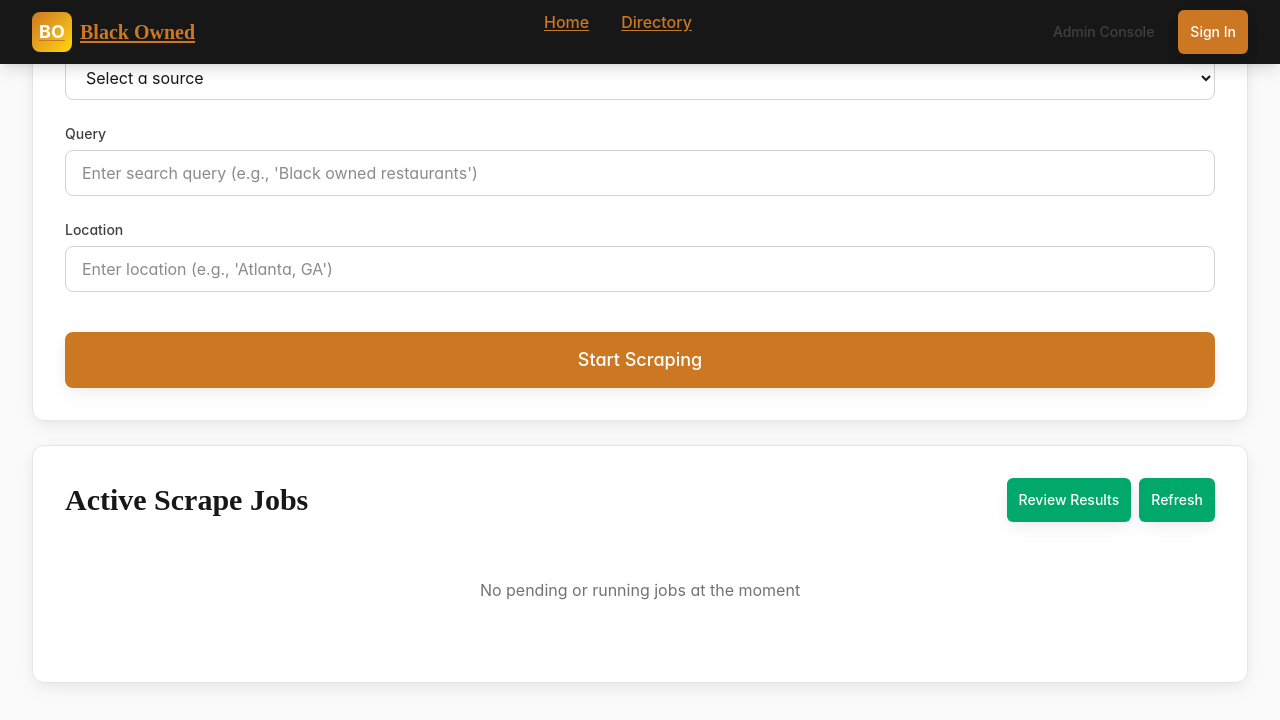
Test: ScrapeJobPage › validates form and shows errors for empty fields
(page scrolled)
Click the button "Start Scraping" at [640, 360], box [65, 332, 1215, 388]
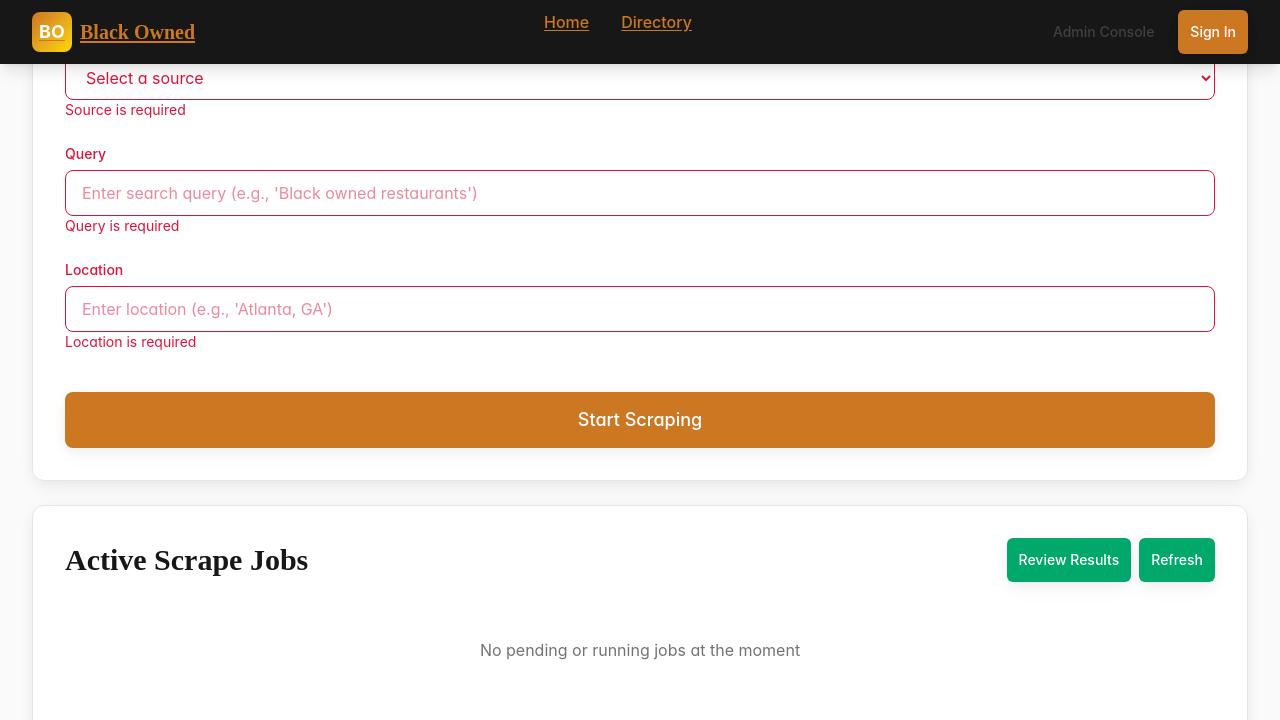
Now the text "Source is required" is shown, box [65, 101, 186, 118]
Now the text "Query is required" is shown, box [65, 217, 179, 234]
Now the text "Location is required" is shown, box [65, 333, 196, 350]
